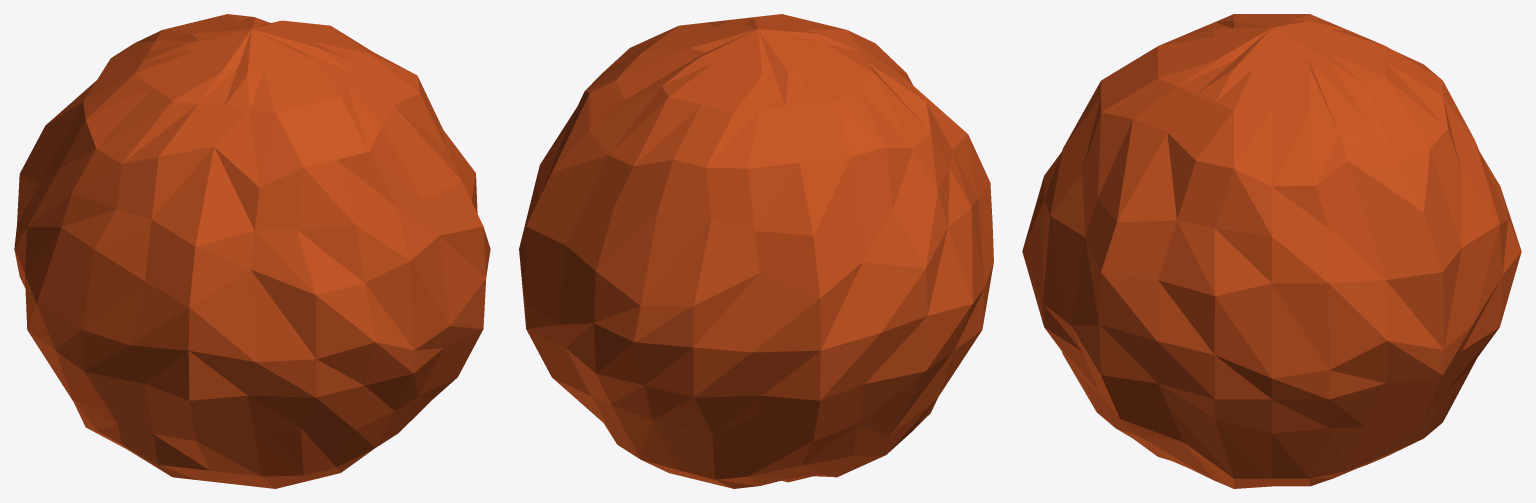
The model's file is venus.glb.
3 views of the same model, side by side, from view 1: azimuth 30°, elevation 25°; view 2: azimuth 150°, elevation 25°; view 3: azimuth 270°, elevation 25° (orthographic).
Parts seen in each view (by area): view 1: Venus; view 2: Venus; view 3: Venus.
Part boxes in pixels (left/top/right/bottom): Venus: left=14, top=14, right=490, bottom=488; Venus: left=519, top=14, right=993, bottom=488; Venus: left=1022, top=14, right=1521, bottom=488.
Bounding box in the file's own units: 61.71 × 62.4 × 63.12.
1 material, 1 textured.
